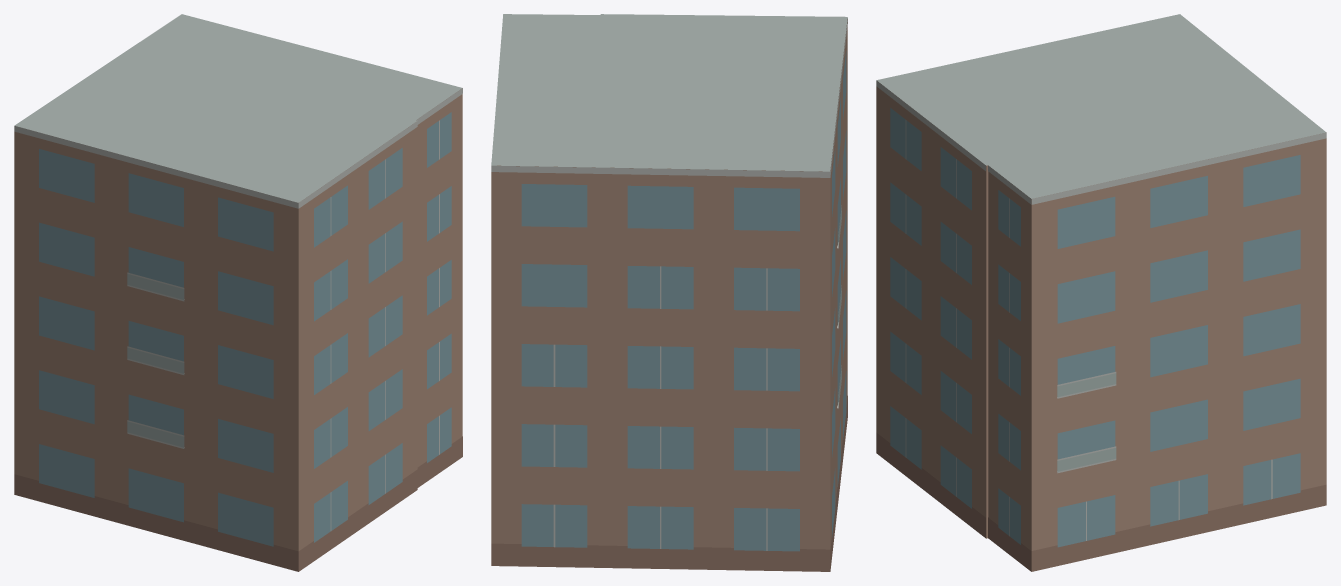
The model's file is survey-upis-32836057.glb.
The picture shows the model from 3 angles, left to right: view 1: azimuth 30°, elevation 25°; view 2: azimuth 150°, elevation 25°; view 3: azimuth 270°, elevation 25°; orthographic projection. The views are drawn at different scales.
Visible parts, largest first — view 1: survey-upis-32836057.tmp; view 2: survey-upis-32836057.tmp; view 3: survey-upis-32836057.tmp.
Part boxes in pixels (x1,y1,x2,y2): survey-upis-32836057.tmp: (14,14,462,571); survey-upis-32836057.tmp: (491,14,847,571); survey-upis-32836057.tmp: (876,14,1326,571).
Bounding box in the file's own units: 16.23 × 15.25 × 16.69.
